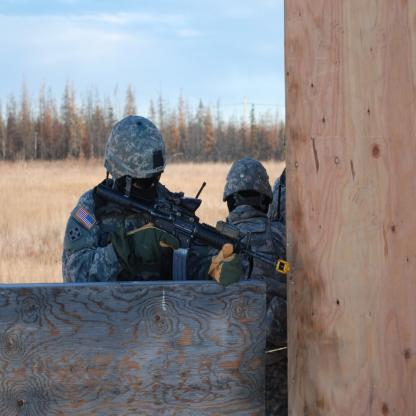Helmet: (100, 122, 169, 200), (220, 161, 278, 201)
